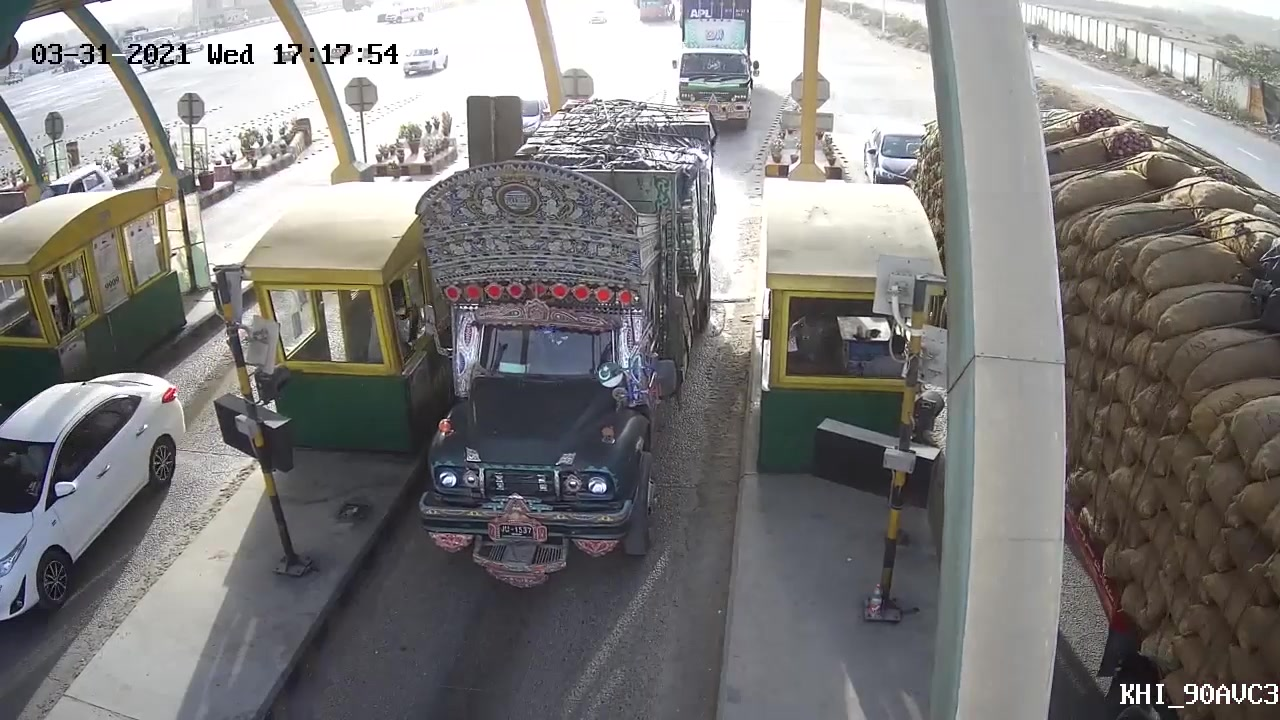F4: (407, 103, 718, 585)
